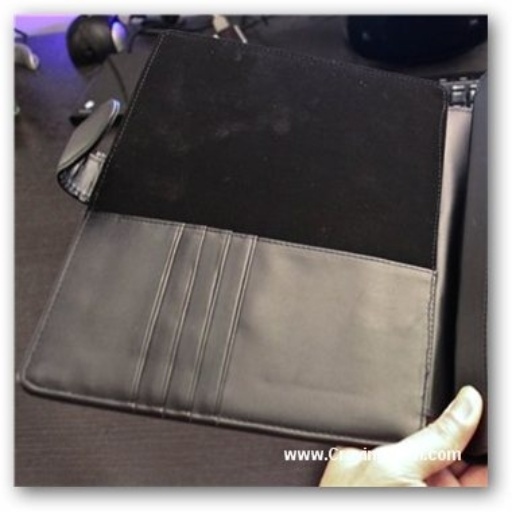hand: (353, 377, 493, 481)
